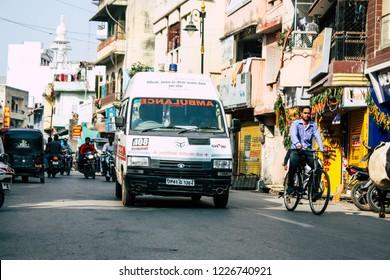ER: (116, 62, 232, 206)
